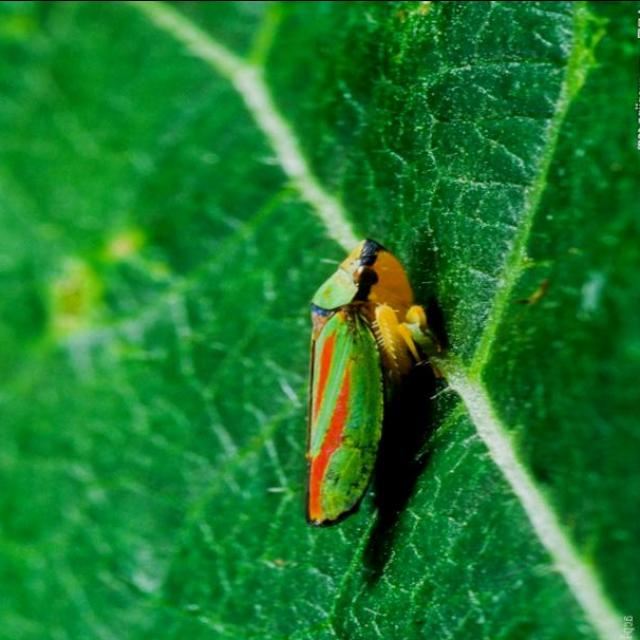green leaf hopper: (306, 239, 441, 525)
